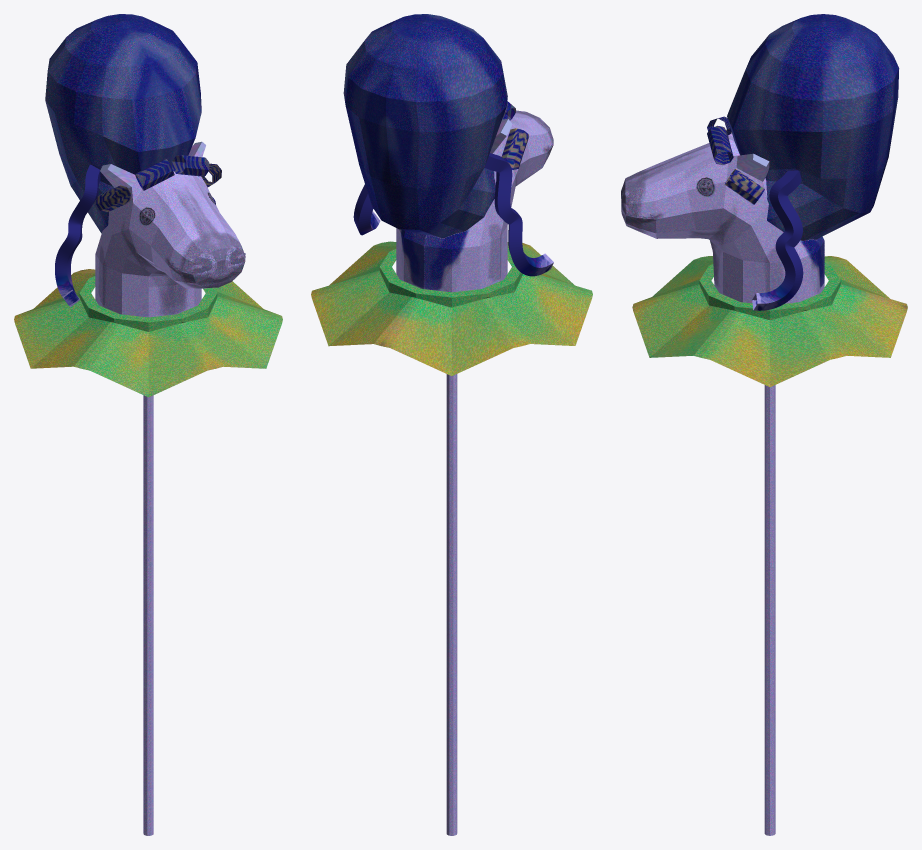
File: LadyHorse.fbx
The picture shows the model from 3 angles, left to right: view 1: azimuth 30°, elevation 25°; view 2: azimuth 150°, elevation 25°; view 3: azimuth 270°, elevation 25°; orthographic projection. The views are drawn at different scales.
Visible parts, largest first — view 1: LadyHorse; view 2: LadyHorse; view 3: LadyHorse.
Part boxes in pixels (<box>): LadyHorse: <box>14,14,282,835</box>; LadyHorse: <box>311,14,592,835</box>; LadyHorse: <box>621,14,907,835</box>.
Bounding box in the file's own units: 132 × 423 × 136.
1 material, 1 textured.
